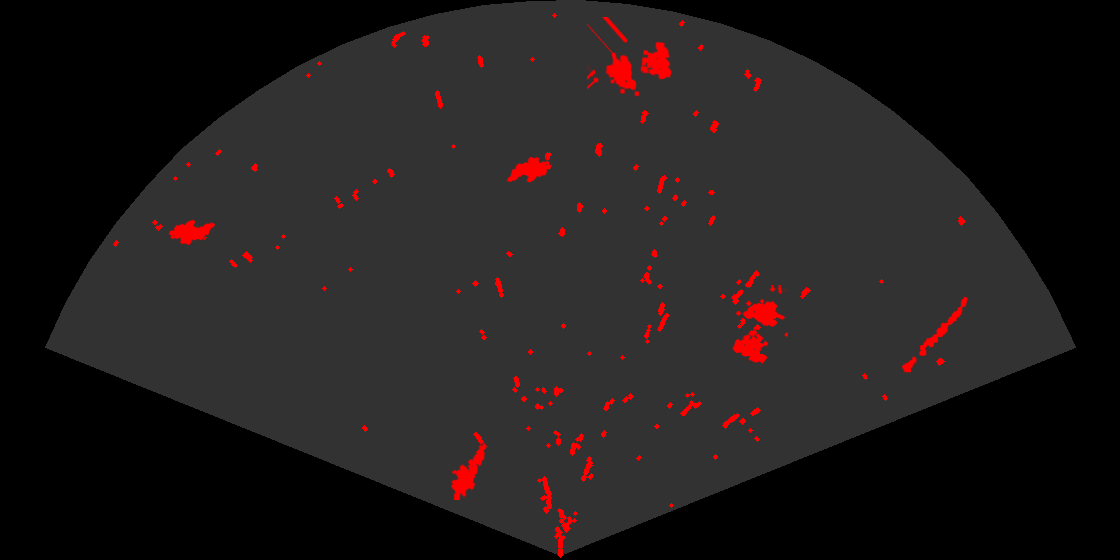AUV: (167, 218, 217, 247), (505, 155, 553, 184)
cage: (587, 17, 673, 98), (731, 285, 788, 365)
chain: (900, 295, 969, 374)
frogman: (450, 442, 488, 500)
